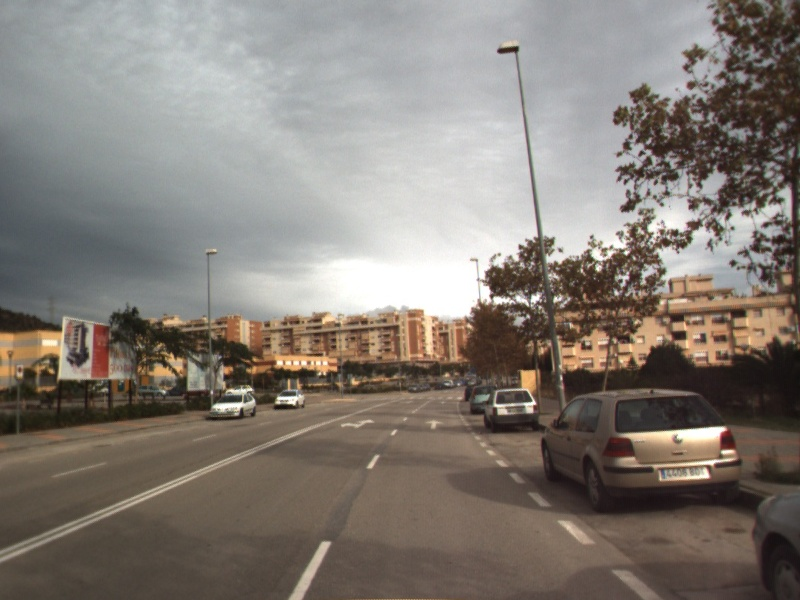STRAIGHT: (424, 417, 445, 431)
STRAIGHT_LEFT: (339, 417, 377, 431)
